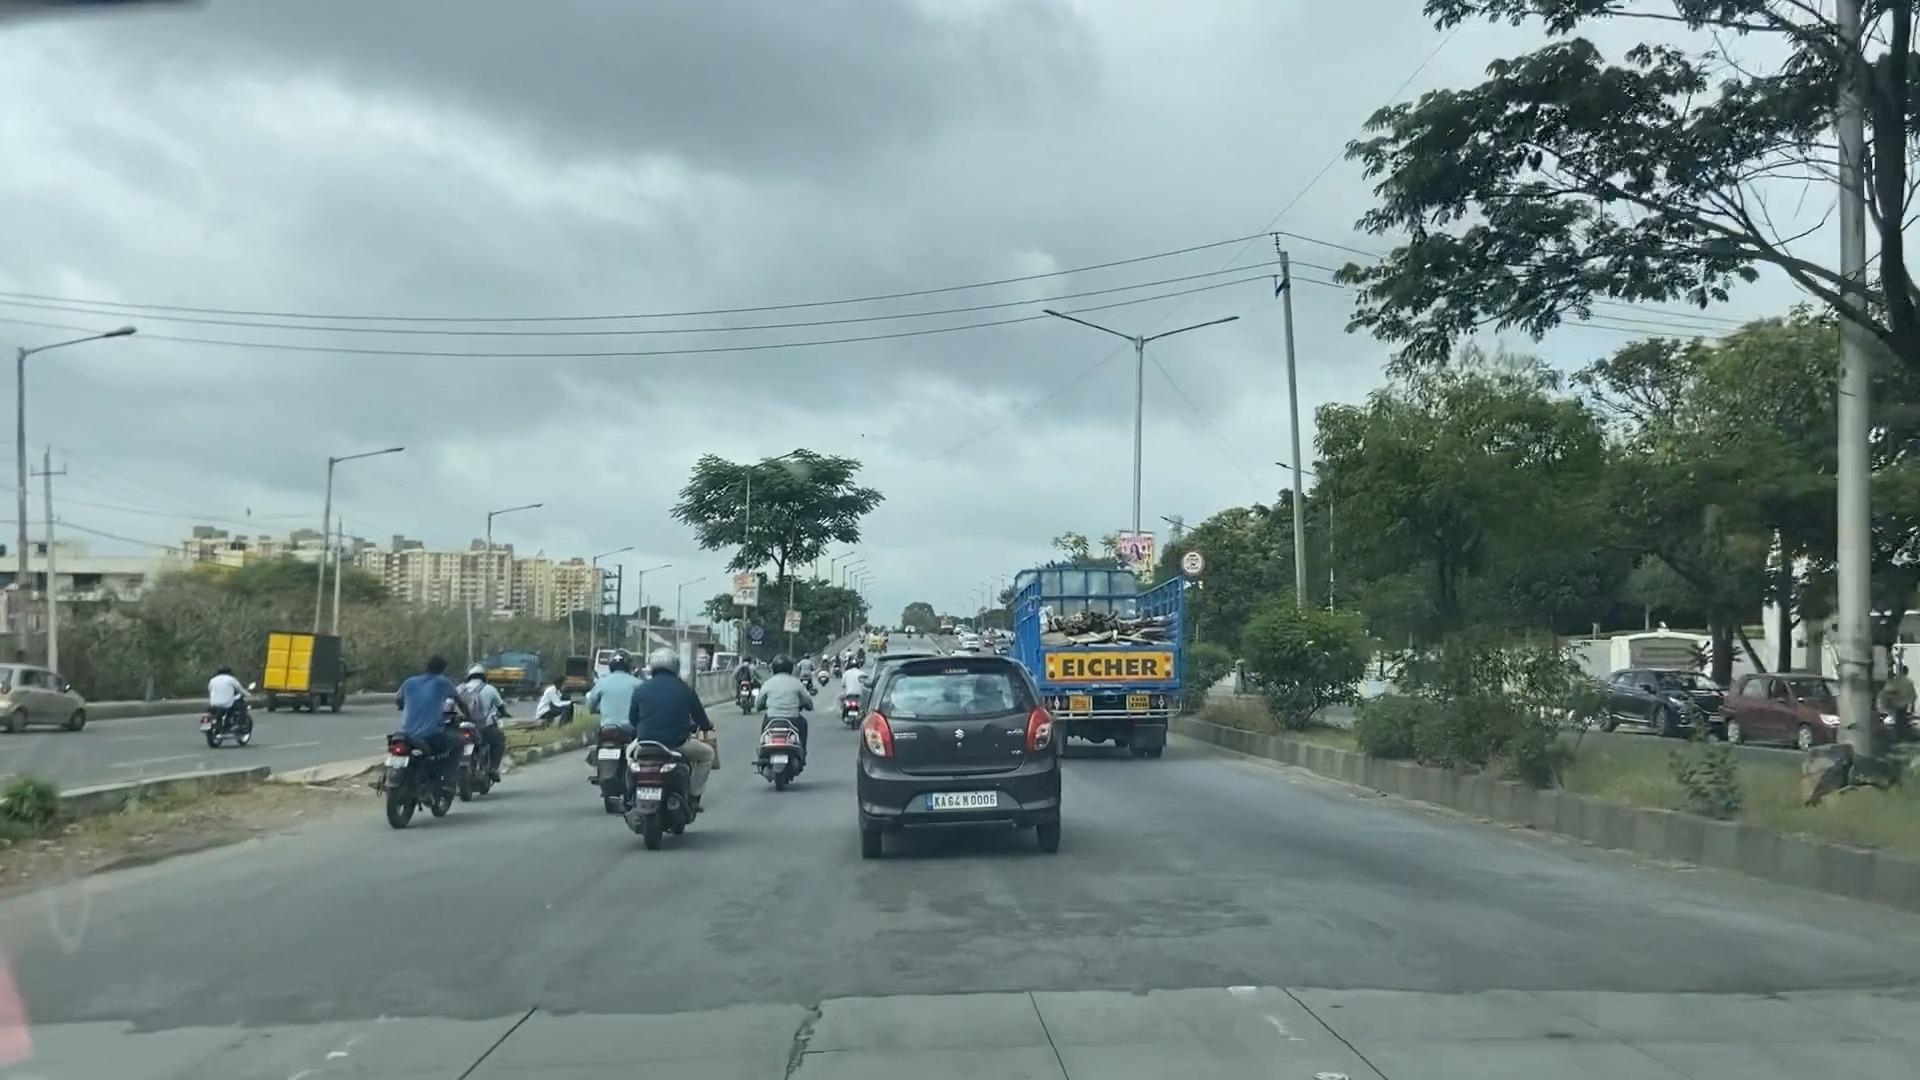LMV: (844, 646, 1068, 858), (371, 674, 479, 845), (630, 646, 703, 831), (757, 657, 815, 800)
RoadDamages: (884, 870, 1249, 972)
